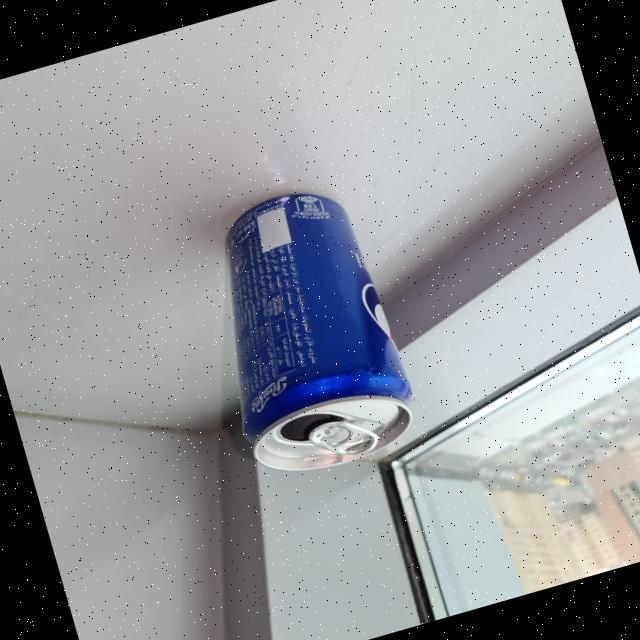metal-can: (221, 187, 419, 473)
